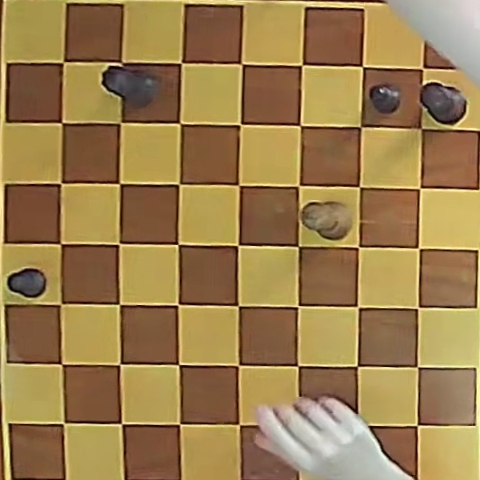black-king: (420, 82, 465, 124)
black-pawn: (7, 268, 46, 299), (370, 83, 402, 113)
black-queen: (103, 65, 161, 109)
white-king: (301, 202, 352, 240)
